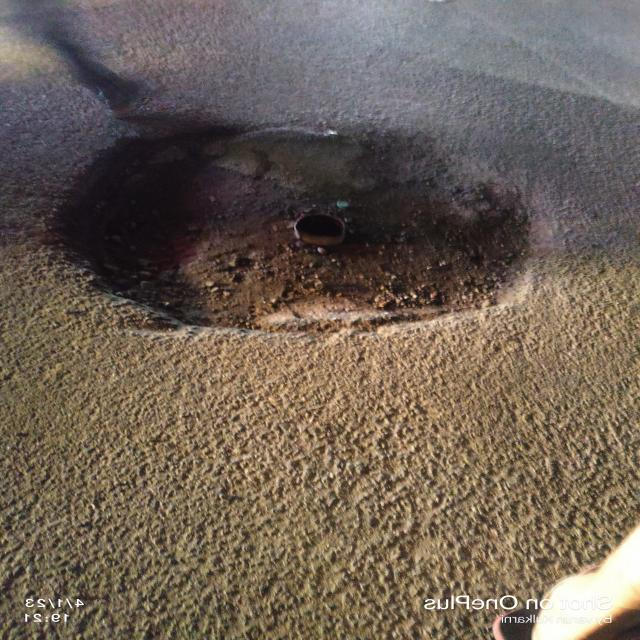potholes: (69, 109, 561, 317)
